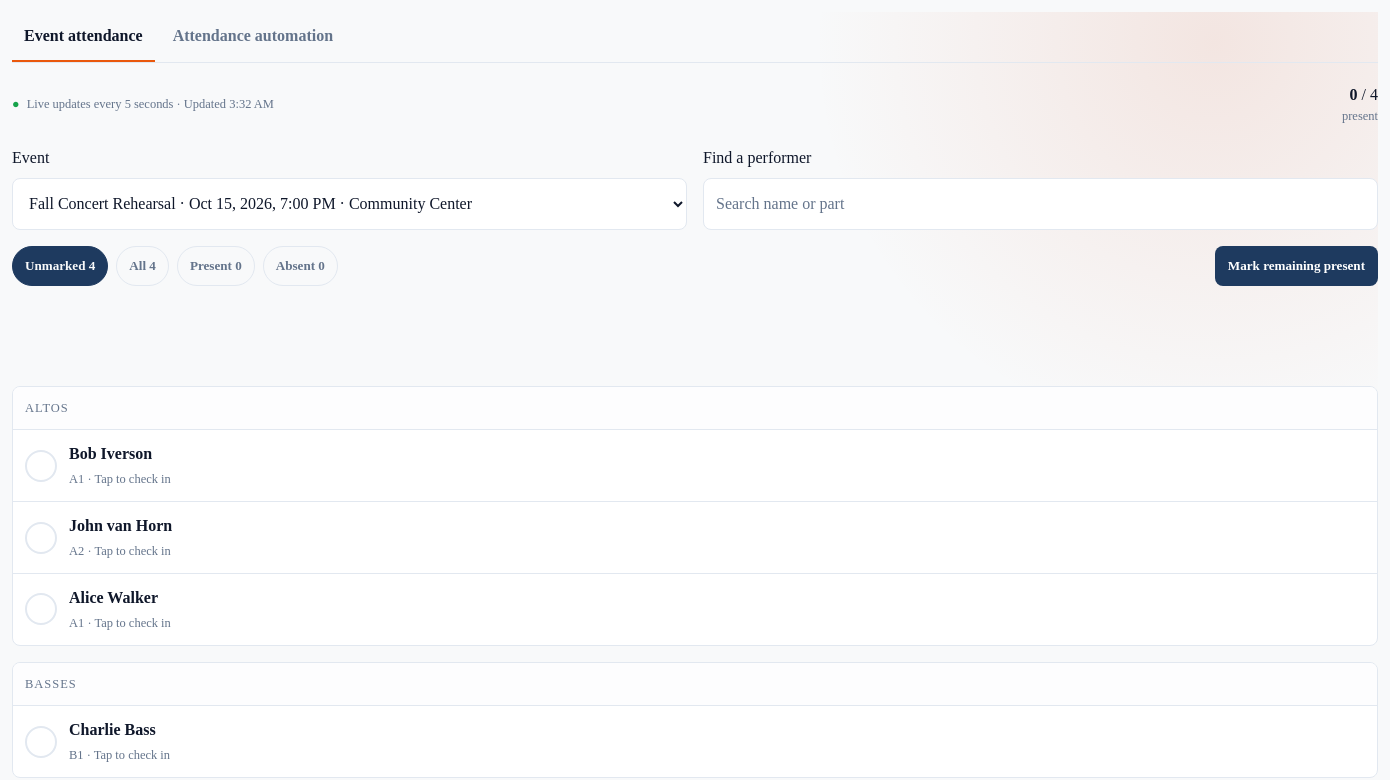
it: AttendanceManager section grouping and sorting UI › AttendanceManager Undo bar › shows undo bar after successful save and restores prior status on undo tap
Expected: the heading "Altos" is shown, [13,387,1377,430]
Click the button with aria-label "Alice Walker: Tap to check in. Tap to change." at (41, 609), box [13,574,1377,645]
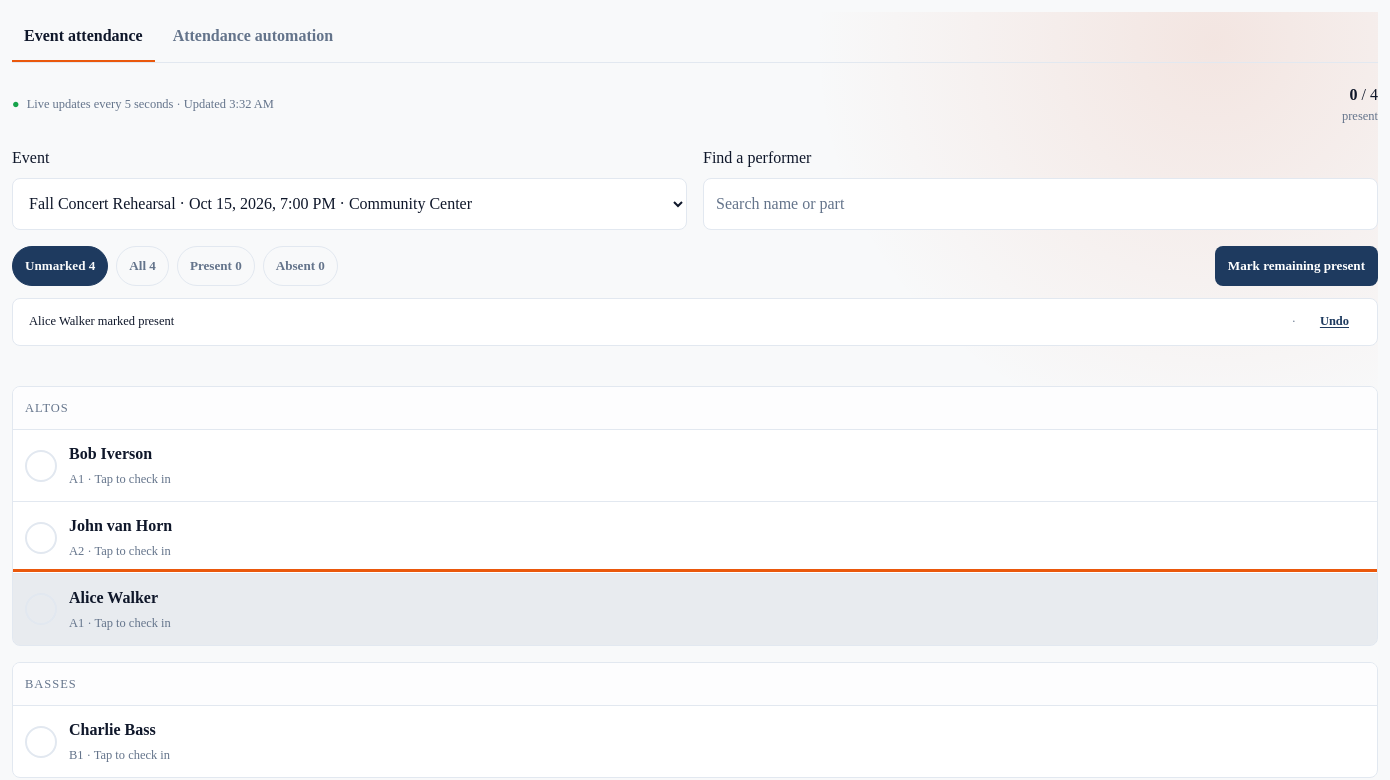
Now the text "Alice Walker marked present" is shown, box [29,314,174,328]
Now the button with aria-label "Undo: Alice Walker marked present" is shown
Click the button with aria-label "Undo: Alice Walker marked present" at (1334, 322), box [1308,300,1361,344]
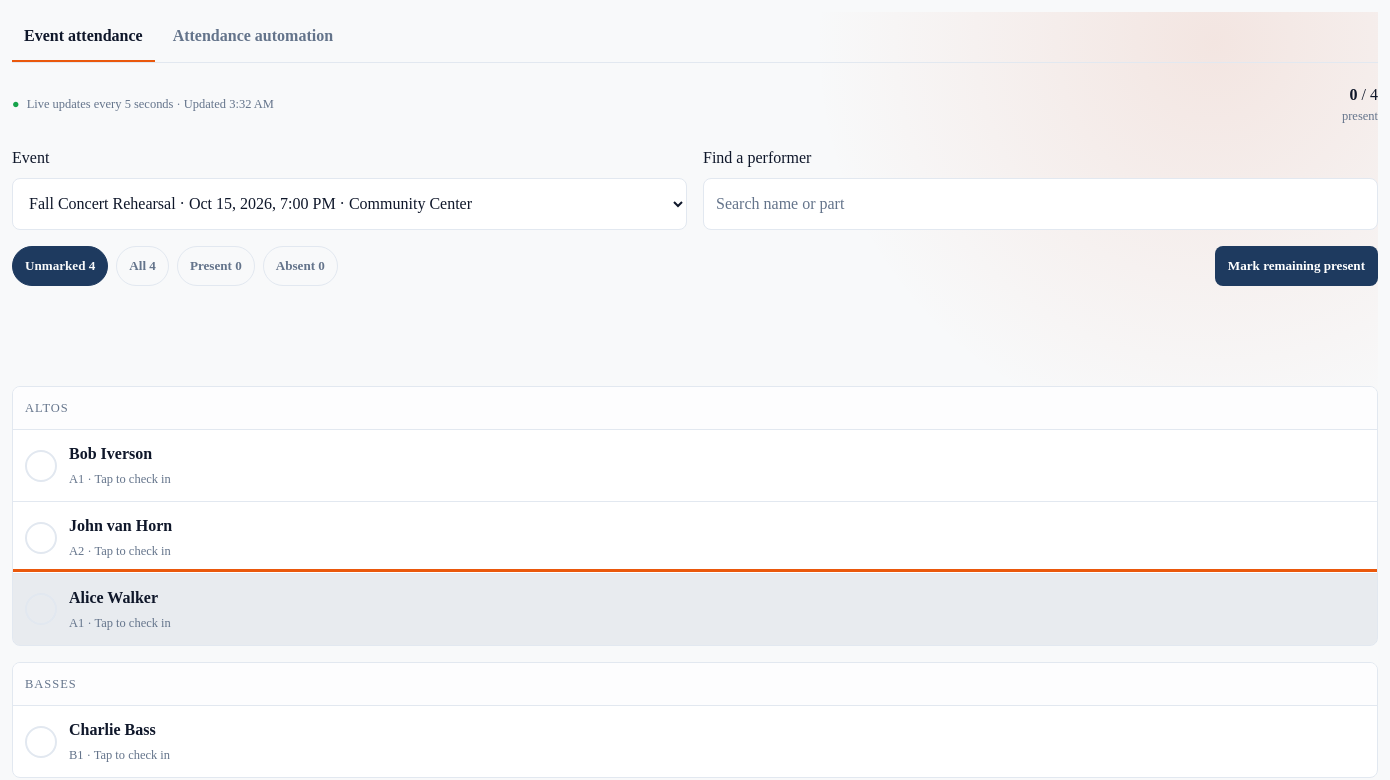
Now the text "Alice Walker marked present" is gone
Now the button "Undo" is gone
